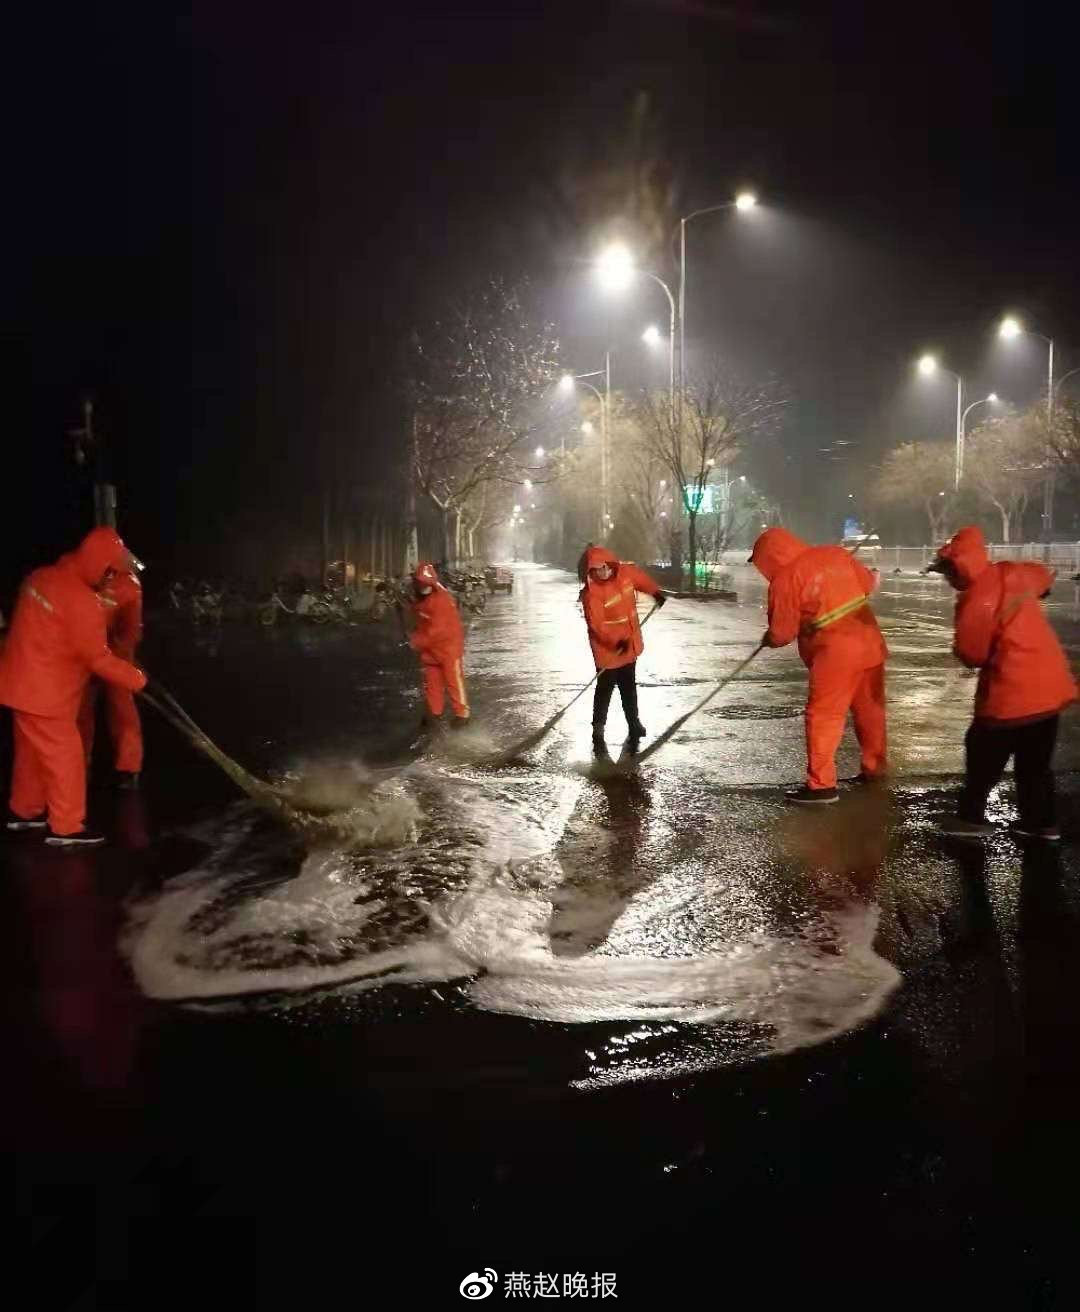safetyhat: (917, 512, 1075, 873), (741, 502, 910, 788), (544, 525, 670, 776), (388, 551, 495, 758)
